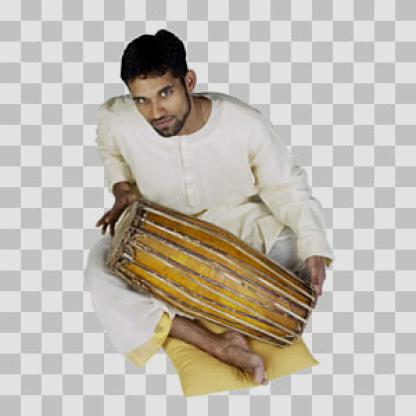Mridangam: (98, 191, 326, 351)
